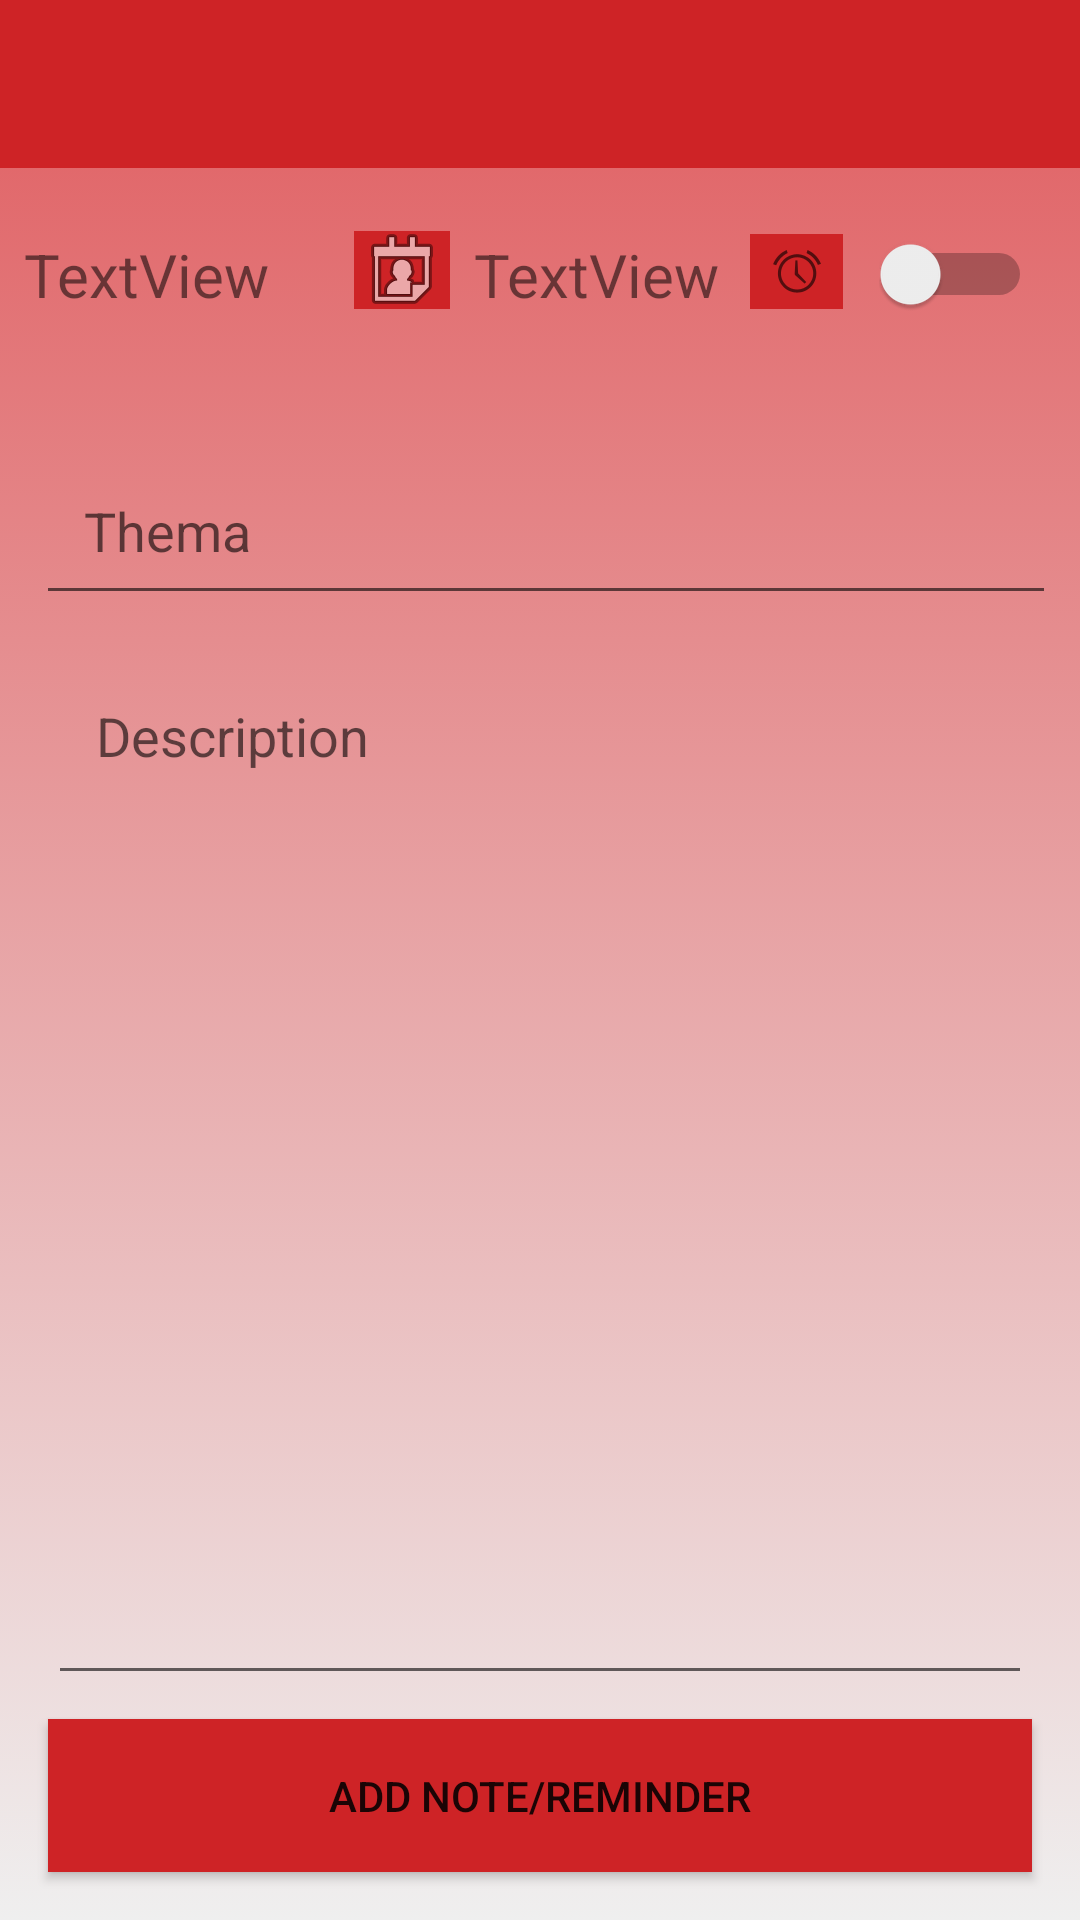

Named icons in this screenshot (1080px×1920px) and their centers, (x=x, y=y):
calendar: (x=402, y=270)
lock idle alarm: (x=796, y=271)
